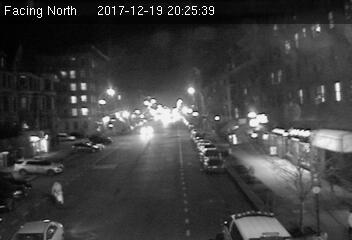bicycle: (50, 181, 66, 209)
car: (202, 156, 226, 172)
police: (218, 210, 288, 240)
